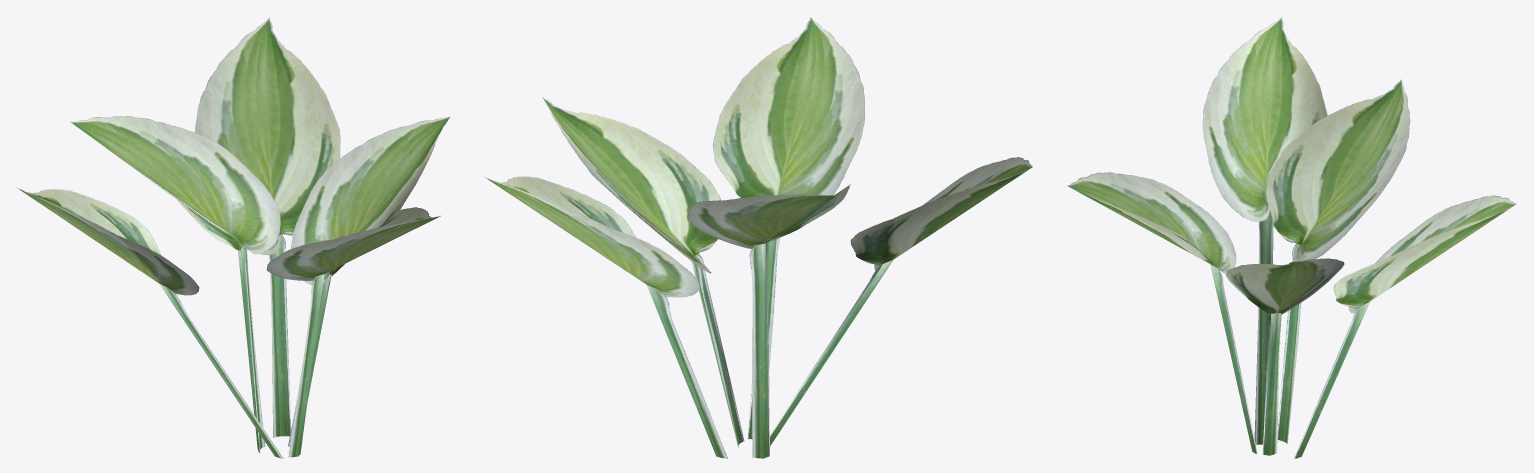
The model's file is plant_small_wg_02T.fbx.
The picture shows the model from 3 angles, left to right: view 1: azimuth 30°, elevation 25°; view 2: azimuth 150°, elevation 25°; view 3: azimuth 270°, elevation 25°; orthographic projection. The views are drawn at different scales.
Parts seen in each view (by area): view 1: plant_small_wg_02T; view 2: plant_small_wg_02T; view 3: plant_small_wg_02T.
Boxes of the visible parts, bbox=[...] form: plant_small_wg_02T: bbox=[16, 18, 450, 458]; plant_small_wg_02T: bbox=[484, 17, 1032, 458]; plant_small_wg_02T: bbox=[1067, 17, 1516, 458].
Size of the model in its own units: 67 by 46.79 by 61.89.
